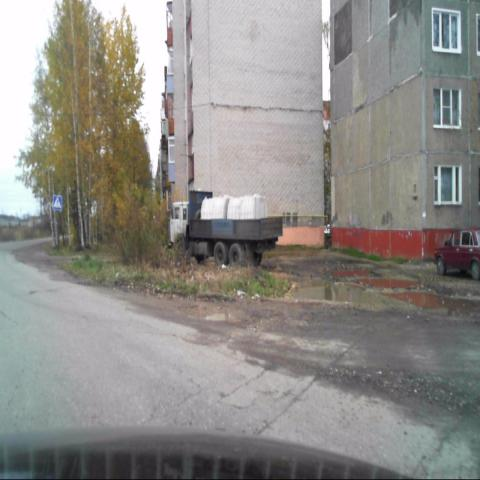5_19_1: (53, 193, 63, 212)
